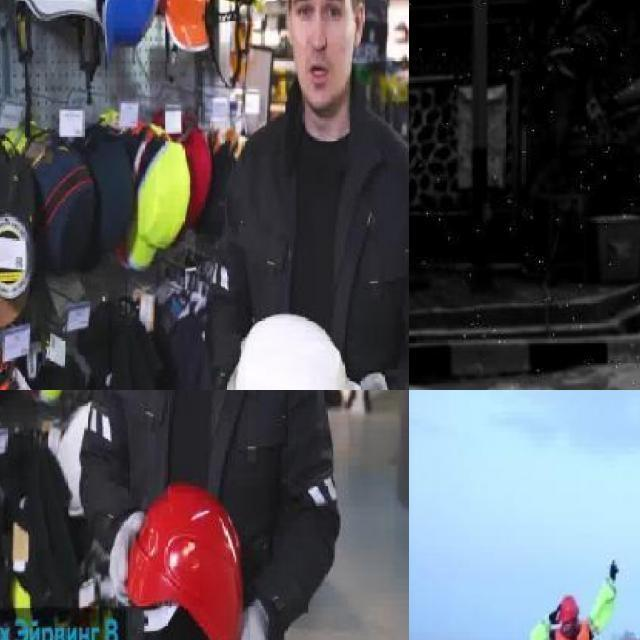apron: (108, 507, 144, 598), (218, 591, 272, 640), (221, 363, 252, 390), (608, 558, 619, 580)
